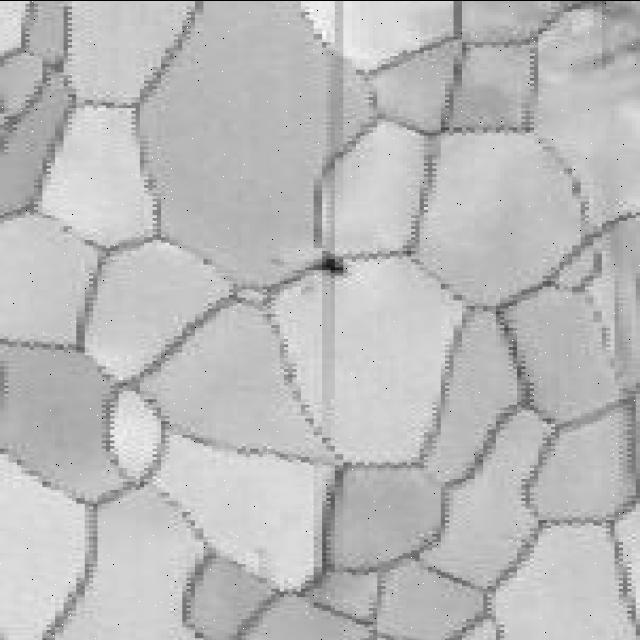good_void: (312, 250, 349, 276)
